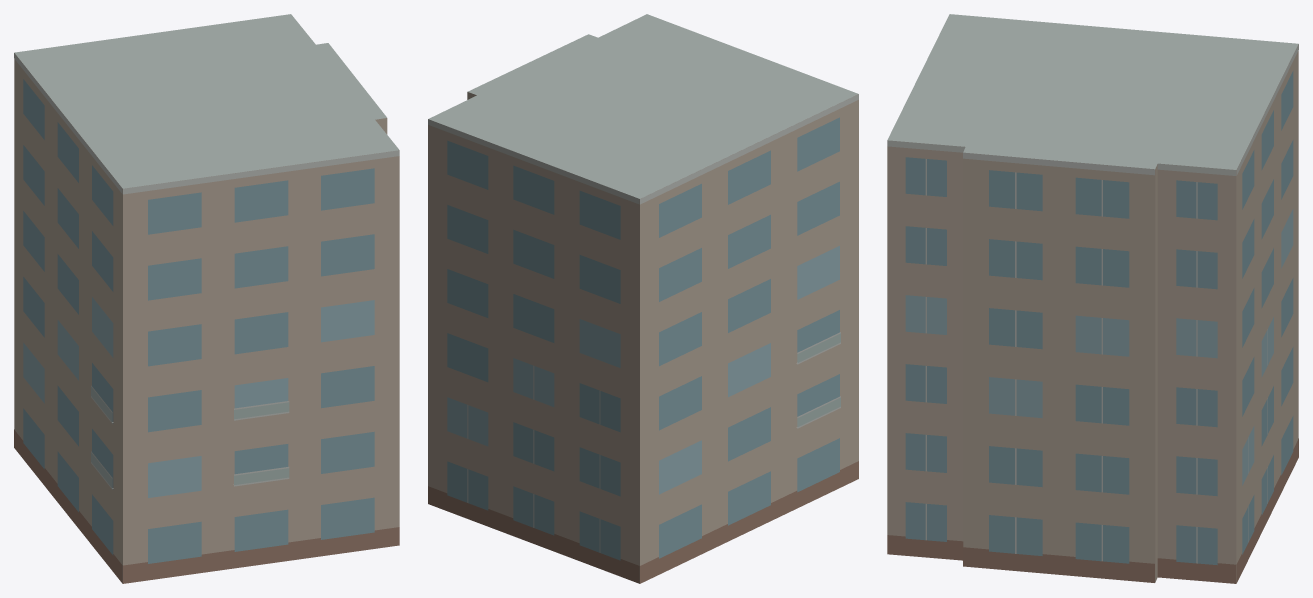
File: survey-upis-32719382.glb
3 views of the same model, side by side, from view 1: azimuth 30°, elevation 25°; view 2: azimuth 150°, elevation 25°; view 3: azimuth 270°, elevation 25° (orthographic). The views are drawn at different scales.
Visible parts, largest first — view 1: survey-upis-32719382.tmp; view 2: survey-upis-32719382.tmp; view 3: survey-upis-32719382.tmp.
Part boxes in pixels (x1=…): survey-upis-32719382.tmp: x1=14, y1=14, x2=399, y2=583; survey-upis-32719382.tmp: x1=428, y1=14, x2=858, y2=583; survey-upis-32719382.tmp: x1=887, y1=14, x2=1298, y2=583.
Size of the model in its own units: 13.43 by 16.6 by 14.97.
